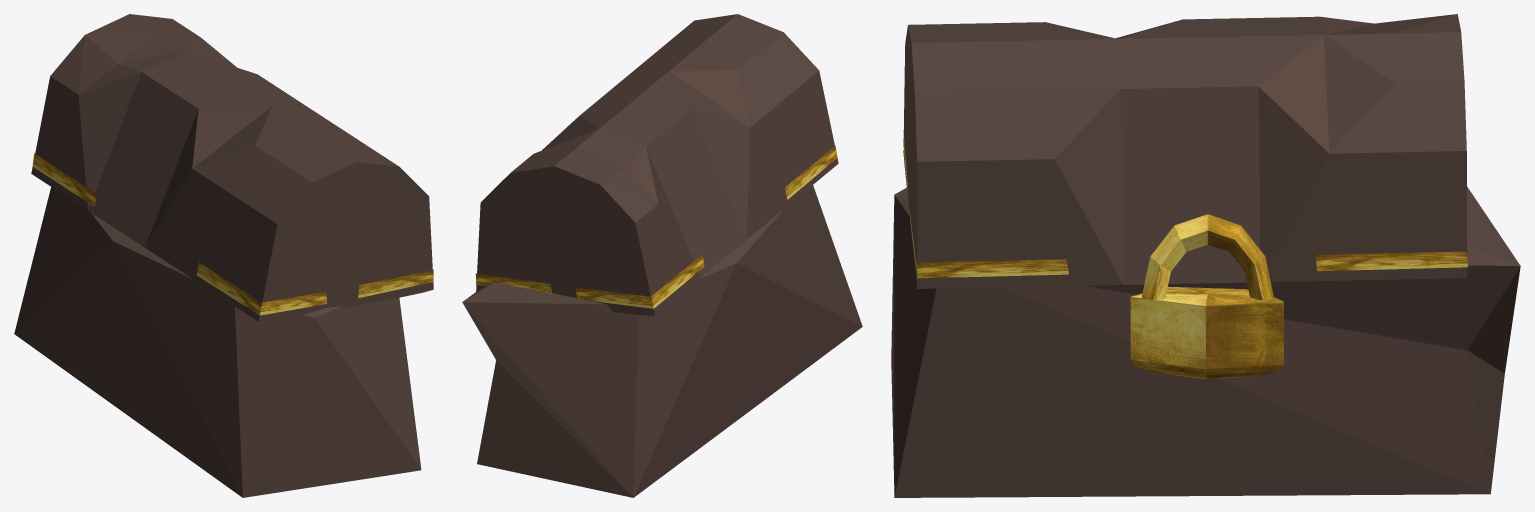
Rendered from 170106_Schatztruhe.fbx.
3 renders of one model, left to right at view 1: azimuth 30°, elevation 25°; view 2: azimuth 150°, elevation 25°; view 3: azimuth 270°, elevation 25°, orthographic. The views are drawn at different scales.
Parts seen in each view (by area): view 1: Lid, Würfel, Ebene_3, Ebene_7, Ebene_1, Ebene_6; view 2: Lid, Würfel, Ebene_2, Ebene_1, Ebene_7, Ebene; view 3: Lid, Würfel, Lock_bottom, Lock_top, Ebene_4, Ebene_5.
Boxes of the visible parts, left/top/right/bottom form: Lid: left=31, top=14, right=433, bottom=321; Würfel: left=14, top=187, right=421, bottom=497; Ebene_3: left=358, top=270, right=433, bottom=298; Ebene_7: left=196, top=262, right=261, bottom=315; Ebene_1: left=32, top=154, right=97, bottom=206; Ebene_6: left=260, top=291, right=327, bottom=315; Lid: left=476, top=14, right=838, bottom=315; Würfel: left=462, top=185, right=862, bottom=497; Ebene_2: left=575, top=287, right=653, bottom=308; Ebene_1: left=651, top=254, right=704, bottom=308; Ebene_7: left=785, top=146, right=837, bottom=199; Ebene: left=475, top=273, right=552, bottom=293; Lid: left=903, top=14, right=1466, bottom=288; Würfel: left=891, top=186, right=1520, bottom=497; Lock_bottom: left=1130, top=286, right=1283, bottom=379; Lock_top: left=1141, top=214, right=1273, bottom=299; Ebene_4: left=1315, top=251, right=1467, bottom=271; Ebene_5: left=916, top=259, right=1068, bottom=278.
Size of the model in its own units: 118 by 170 by 231.
2 materials, 1 textured.
